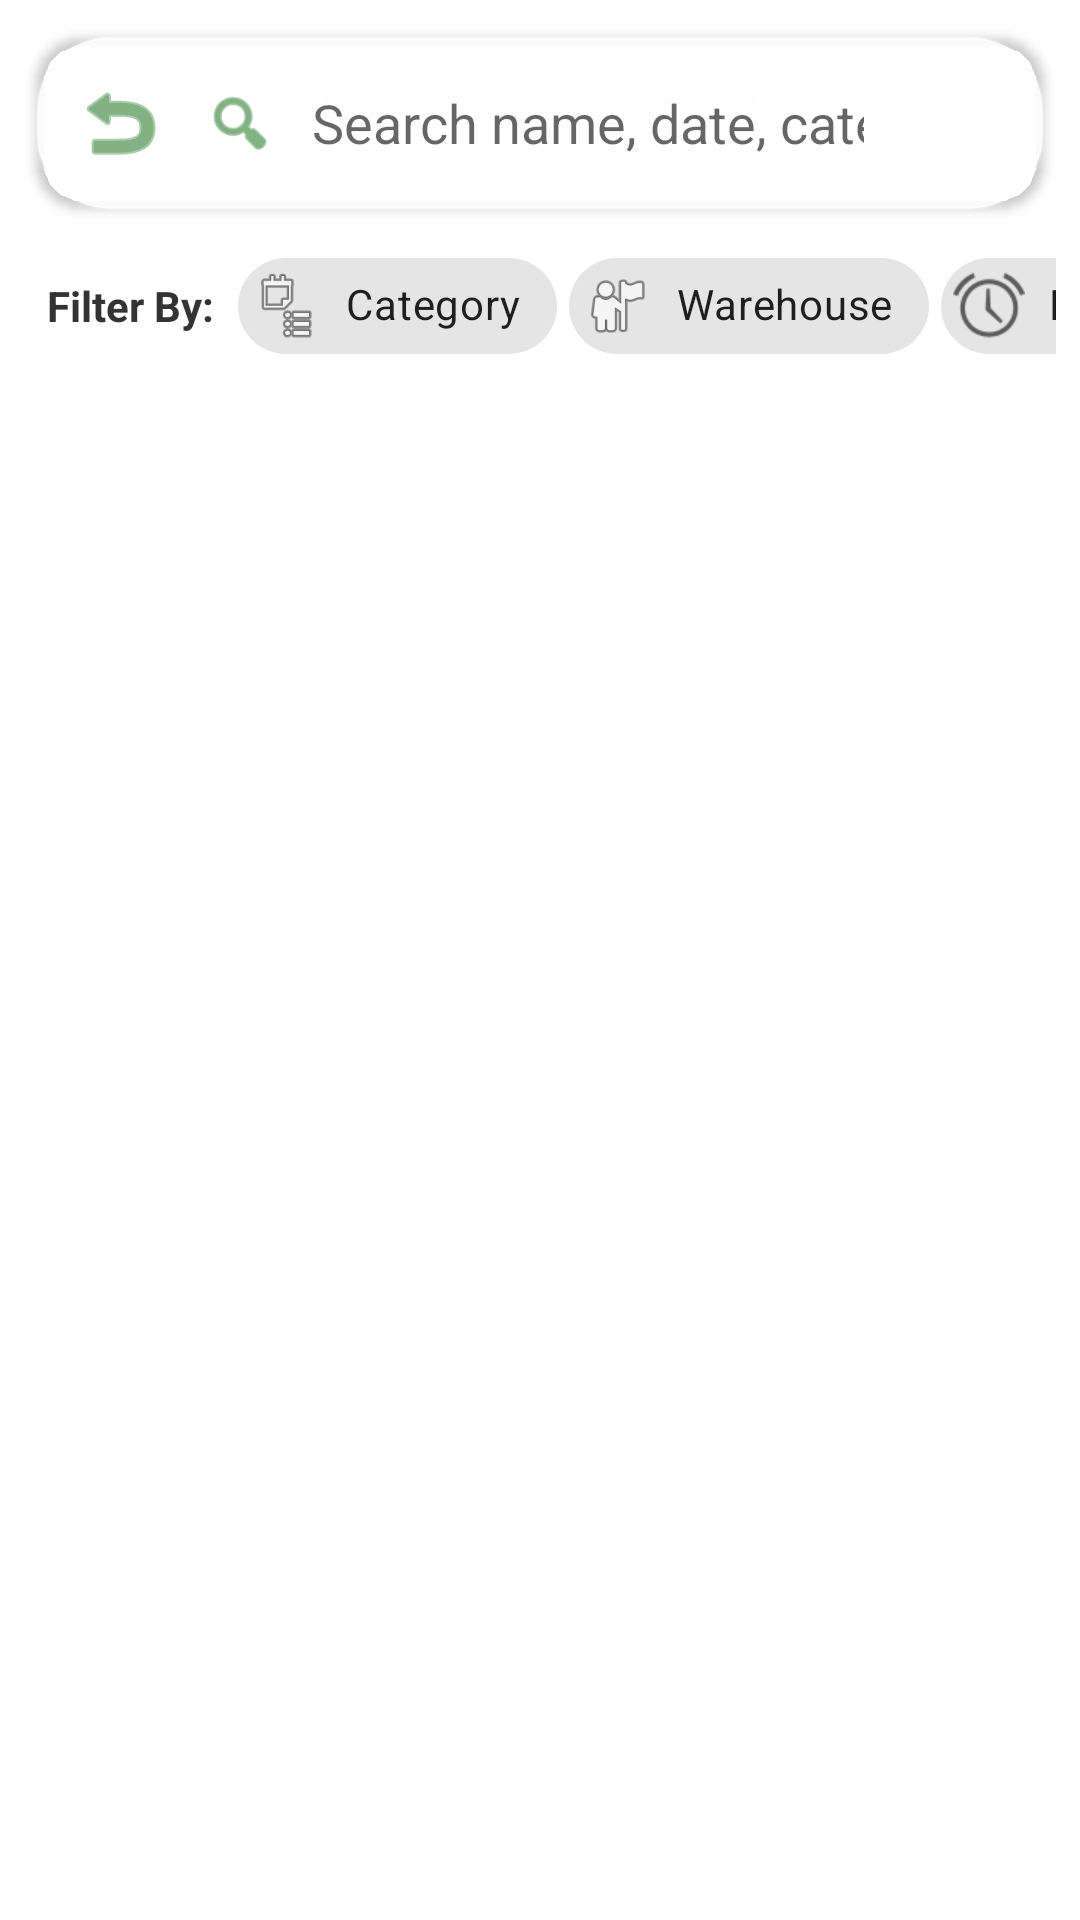

Named icons in this screenshot (1080×1920) and their centers, (x=x, y=y):
revert: (x=121, y=123)
